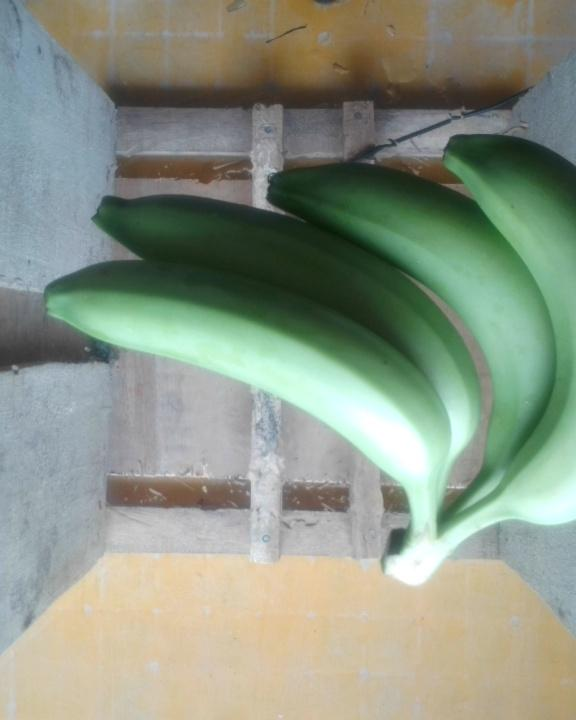SPOT: (32, 117, 576, 589)
